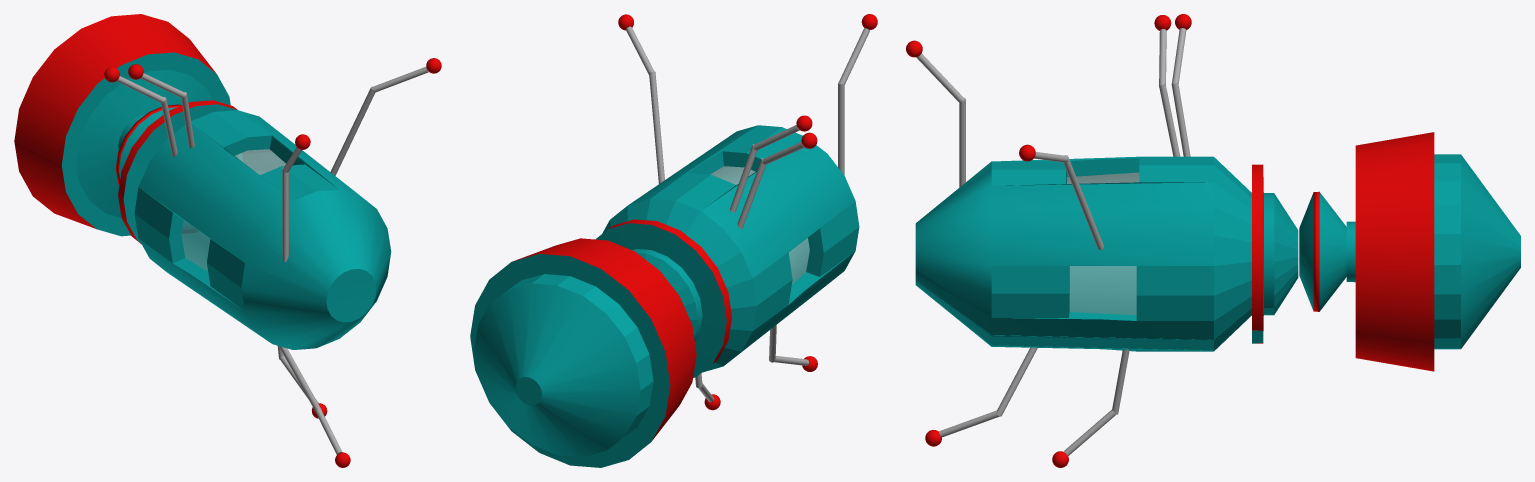
The model's file is S2_Body_Combined.fbx.
The picture shows the model from 3 angles, left to right: view 1: azimuth 30°, elevation 25°; view 2: azimuth 150°, elevation 25°; view 3: azimuth 270°, elevation 25°; orthographic projection. The views are drawn at different scales.
Parts seen in each view (by area): view 1: pCylinder13; view 2: pCylinder13; view 3: pCylinder13.
Part boxes in pixels (bbox=[...]): pCylinder13: bbox=[14, 14, 441, 467]; pCylinder13: bbox=[470, 14, 877, 467]; pCylinder13: bbox=[906, 14, 1520, 467].
Bounding box in the file's own units: 25.38 × 32.55 × 47.58.
